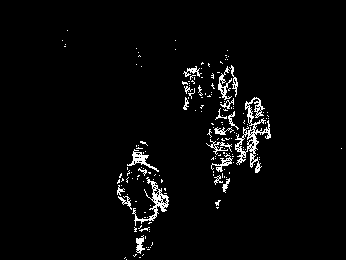person: (116, 140, 170, 259), (207, 112, 245, 214), (243, 93, 274, 175), (219, 57, 240, 114), (196, 59, 216, 111), (182, 60, 197, 112)
